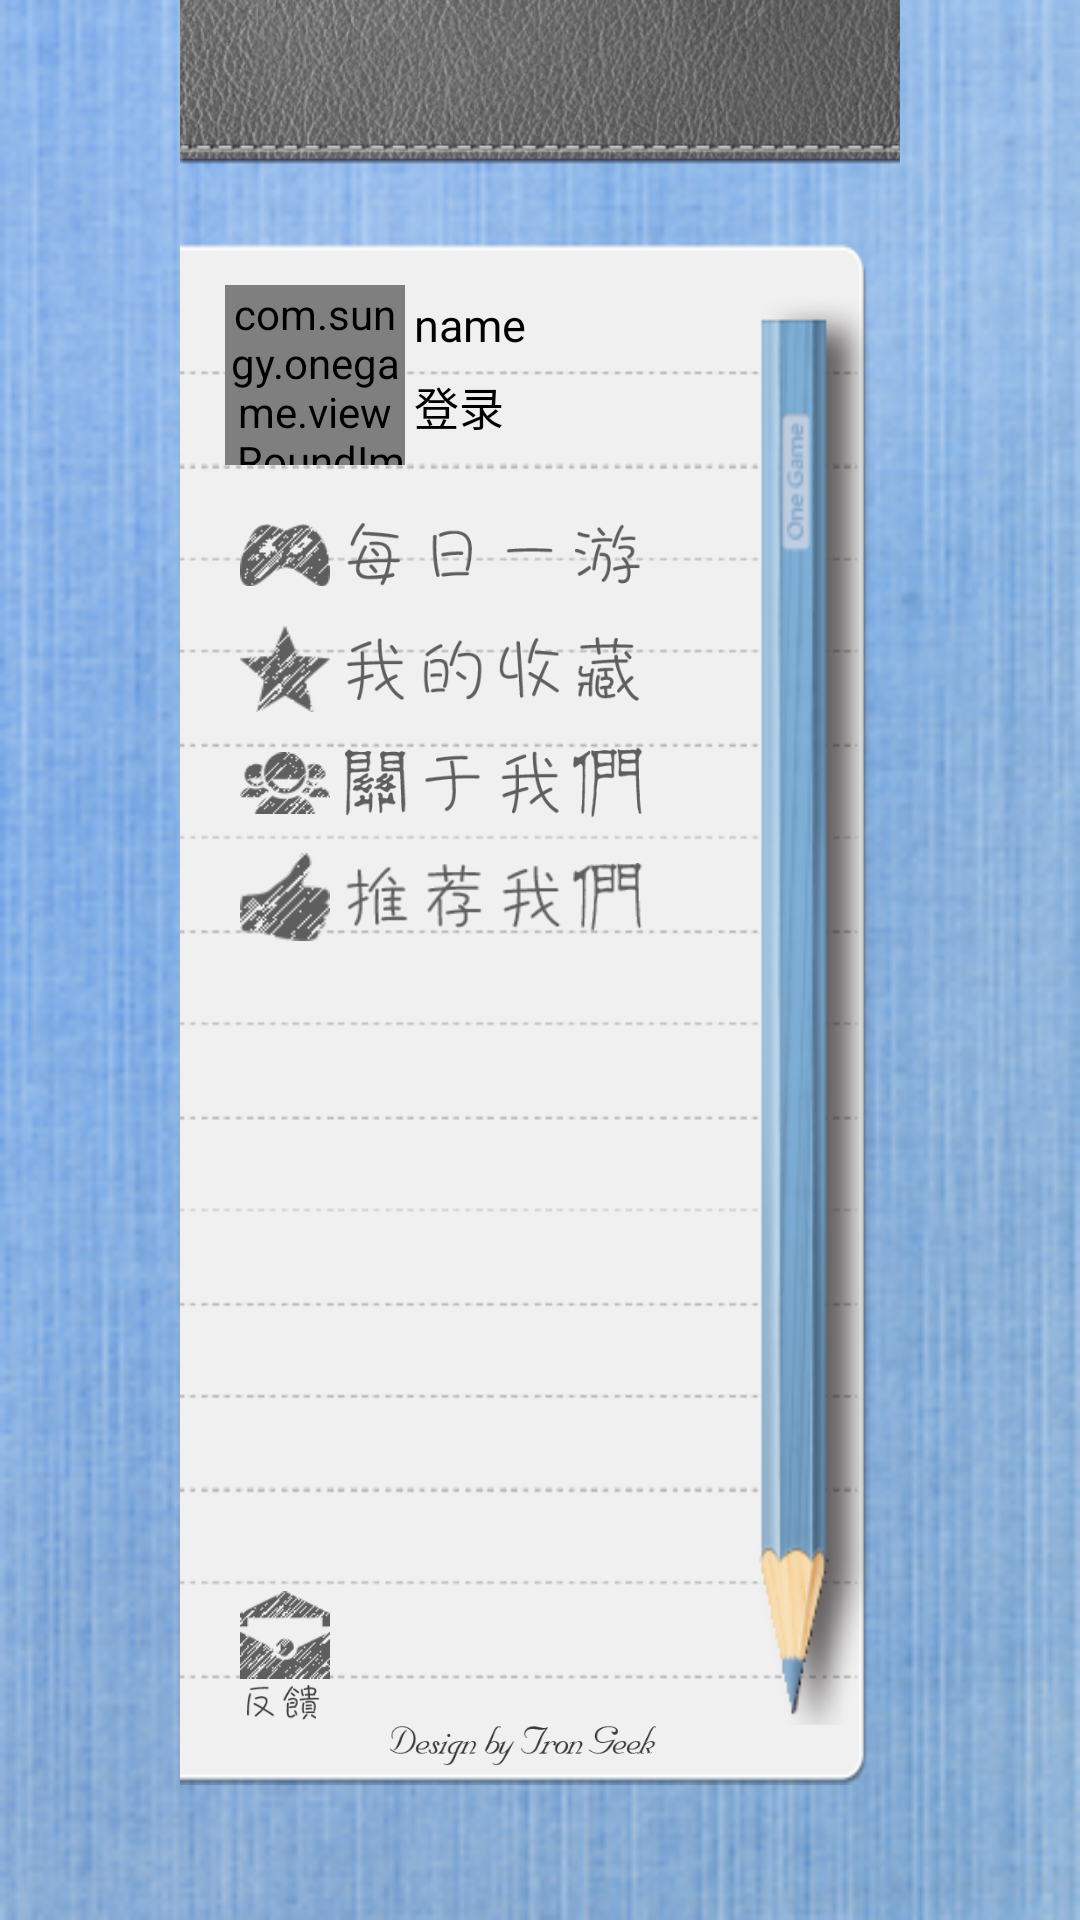

Icon bounding boxes for this 1080 x 1920 phone screenshot, format box(x1, y1, x2, y2):
about: box(240, 744, 330, 814)
favorite: box(240, 626, 330, 712)
recommend: box(240, 853, 330, 941)
